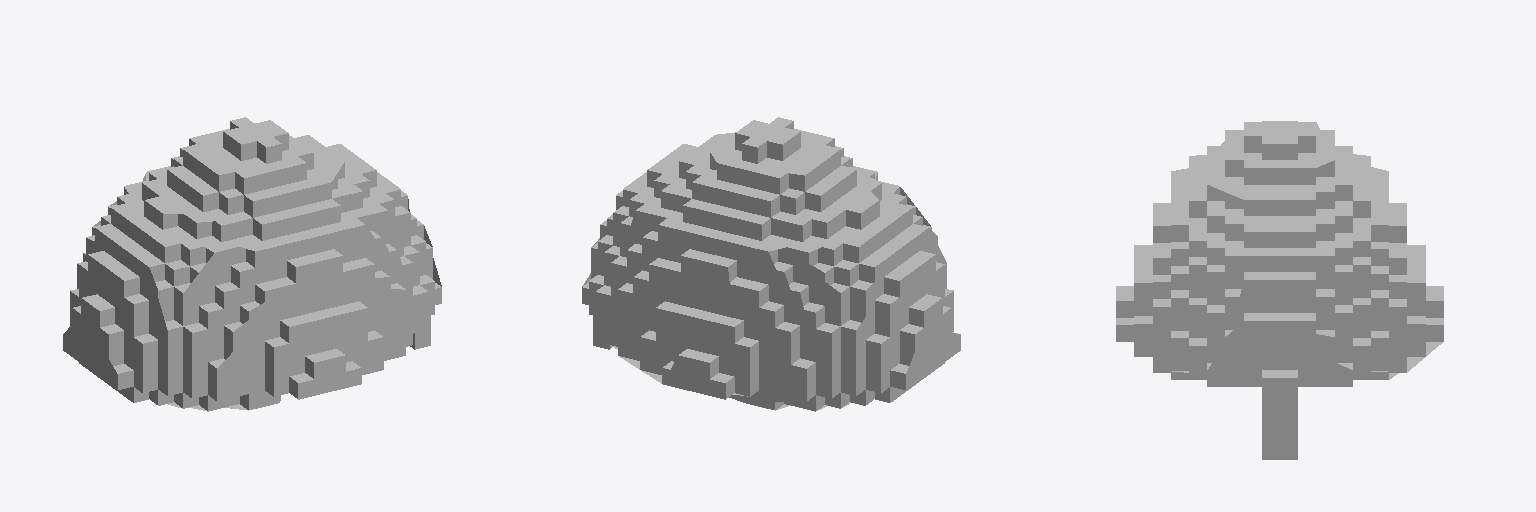
File: Helm_Nasal_Gray_Male.obj
The picture shows the model from 3 angles: view 1: azimuth 30°, elevation 25°; view 2: azimuth 150°, elevation 25°; view 3: azimuth 270°, elevation 25°; orthographic projection.
Parts seen in each view (by area): view 1: Helm_Nasal_Male; view 2: Helm_Nasal_Male; view 3: Helm_Nasal_Male.
Part boxes in pixels (bbox=[...]): Helm_Nasal_Male: bbox=[63, 117, 441, 411]; Helm_Nasal_Male: bbox=[582, 117, 960, 411]; Helm_Nasal_Male: bbox=[1116, 121, 1443, 459].
Bounding box in the file's own units: 0.21 × 0.15 × 0.18.